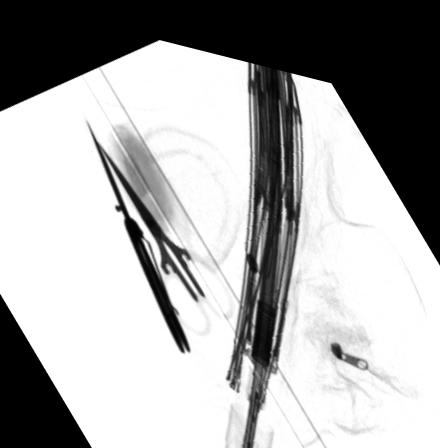Knife: (85, 112, 189, 344)
Scissors: (97, 137, 241, 329)
